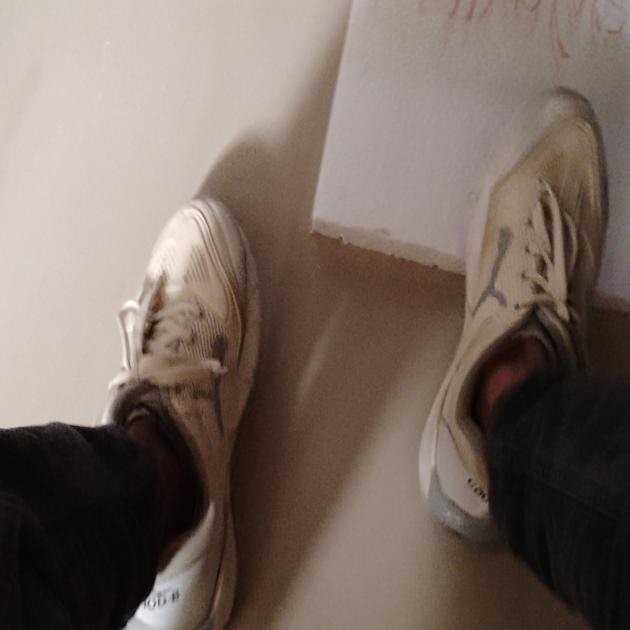shoes: (63, 26, 630, 630)
